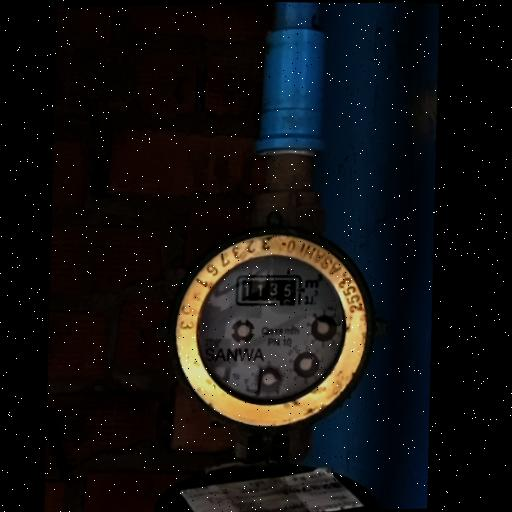1: (252, 279, 266, 300), (239, 280, 253, 300)
3: (266, 280, 280, 300)
5: (278, 280, 294, 306)
border_water_meter_number: (232, 273, 305, 307)
